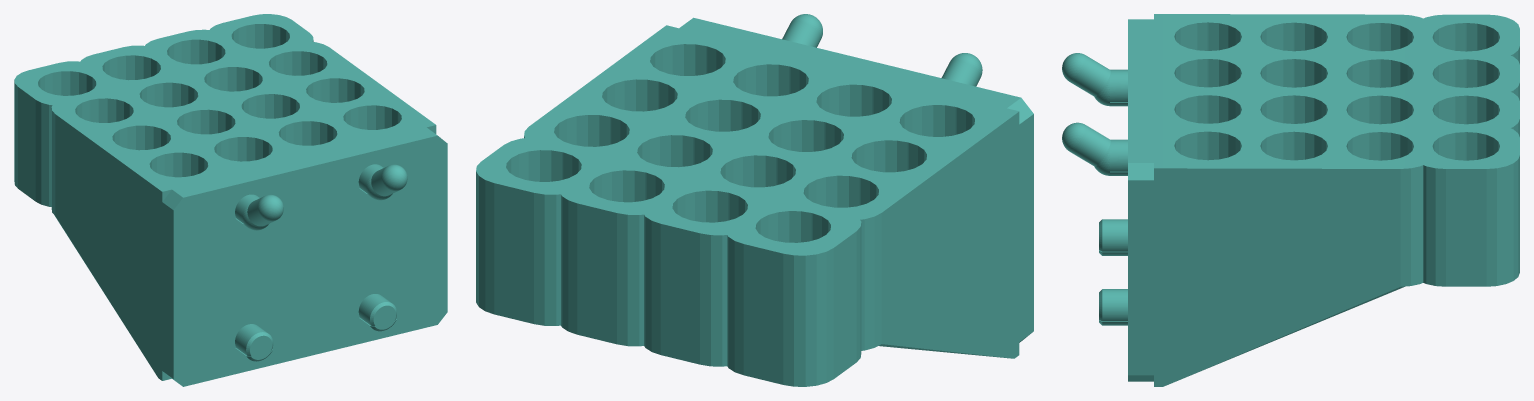
3 views of the same model, side by side, from view 1: azimuth 30°, elevation 25°; view 2: azimuth 150°, elevation 25°; view 3: azimuth 270°, elevation 25° (orthographic). The views are drawn at different scales.
Visible parts, largest first — view 1: Actual holder mesh; view 2: Actual holder mesh; view 3: Actual holder mesh.
Part boxes in pixels (bbox=[...]): Actual holder mesh: bbox=[14, 14, 447, 386]; Actual holder mesh: bbox=[476, 14, 1033, 386]; Actual holder mesh: bbox=[1062, 14, 1519, 386].
Size of the model in its own units: 0.0563 by 0.0374 by 0.0705.
